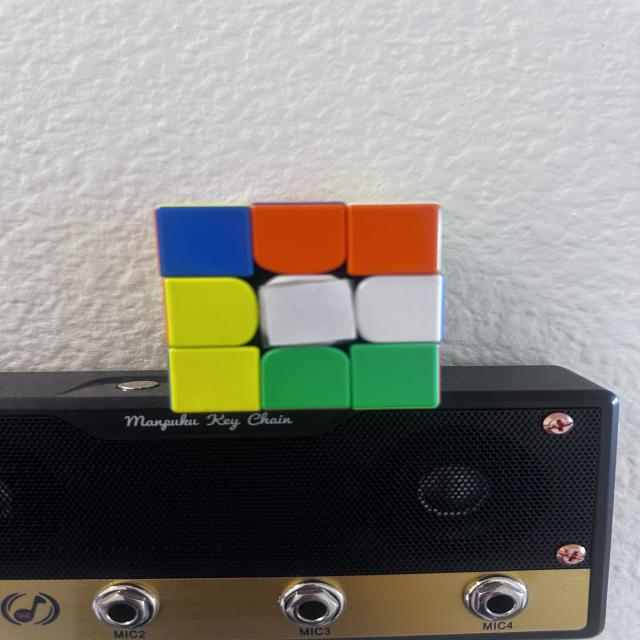sticker: (154, 203, 255, 280), (257, 274, 360, 348), (344, 203, 443, 279), (250, 202, 350, 277), (163, 278, 261, 350), (354, 273, 446, 345), (167, 348, 263, 413), (350, 343, 441, 410), (260, 346, 353, 411)
